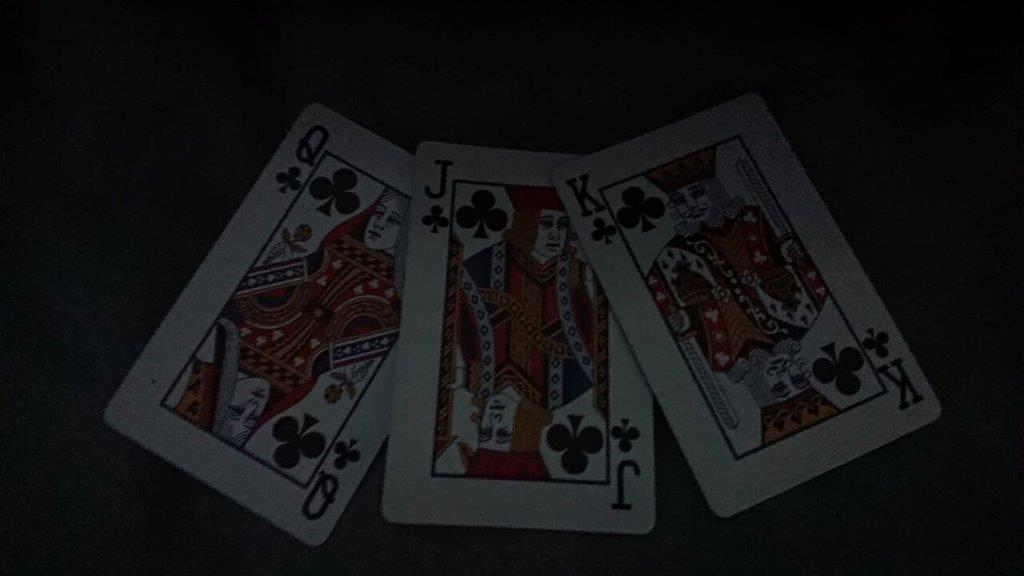JC: (411, 151, 465, 248)
KC: (560, 167, 621, 254)
QC: (274, 117, 335, 204)
